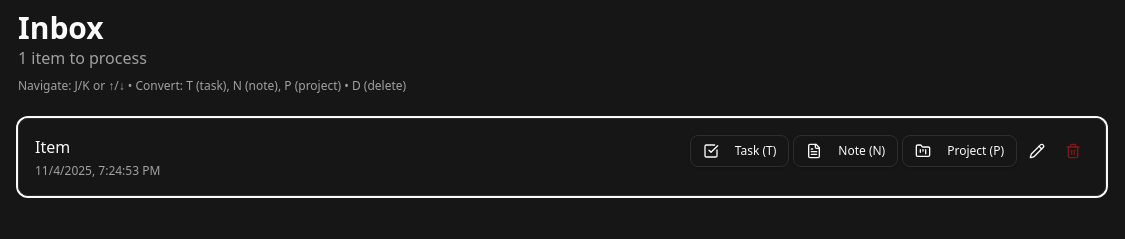
Scenario: Inbox › convert to task › disables buttons while converting
Check: the text "Item" is shown, box [35,136,70,158]
Click the button "Task (T)" at (740,151), box [690,135,789,167]
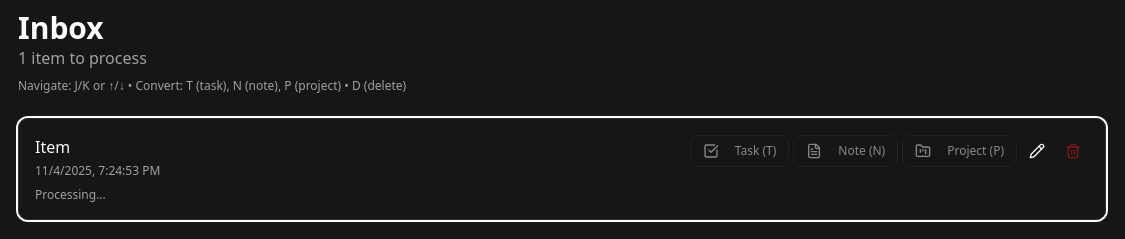
Check: the button "Task (T)" is disabled, box [690,135,789,167]
